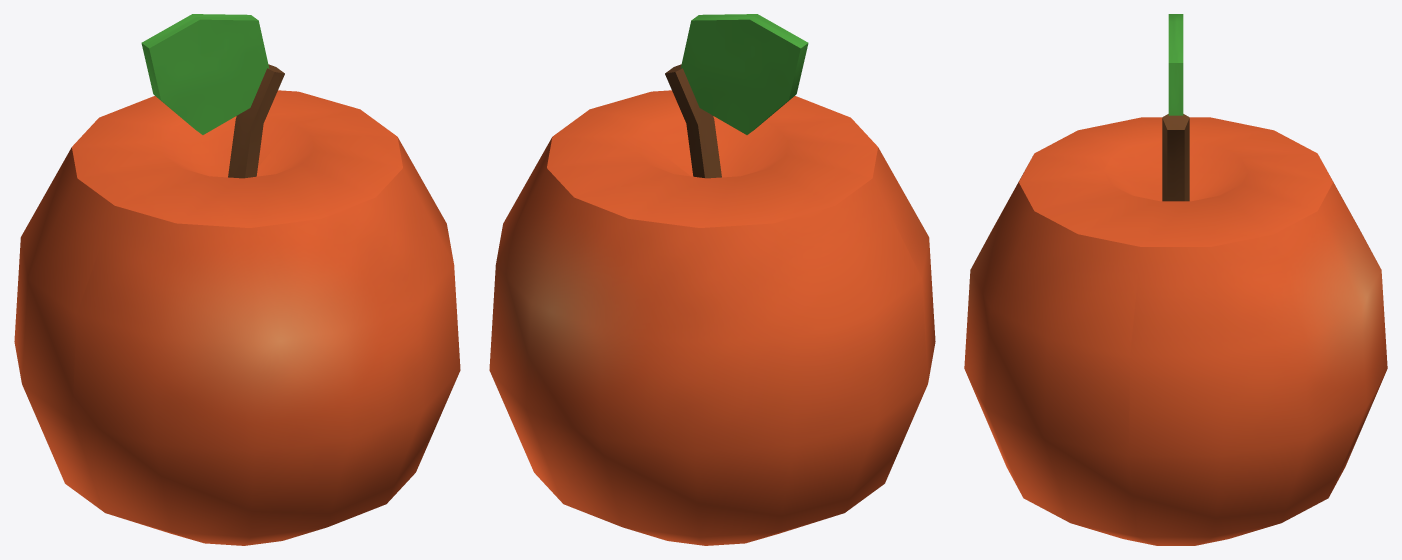
File: pickup_apple.glb
3 views of the same model, side by side, from view 1: azimuth 30°, elevation 25°; view 2: azimuth 150°, elevation 25°; view 3: azimuth 270°, elevation 25° (orthographic). The views are drawn at different scales.
Visible parts, largest first — view 1: pickup_apple; view 2: pickup_apple; view 3: pickup_apple.
Part boxes in pixels (box(x1,y1,x2,y2)): pickup_apple: box(14, 14, 460, 545); pickup_apple: box(489, 14, 935, 545); pickup_apple: box(964, 14, 1387, 545).
Bounding box in the file's own units: 0.3412 × 0.4291 × 0.35.
1 material, 1 textured.
